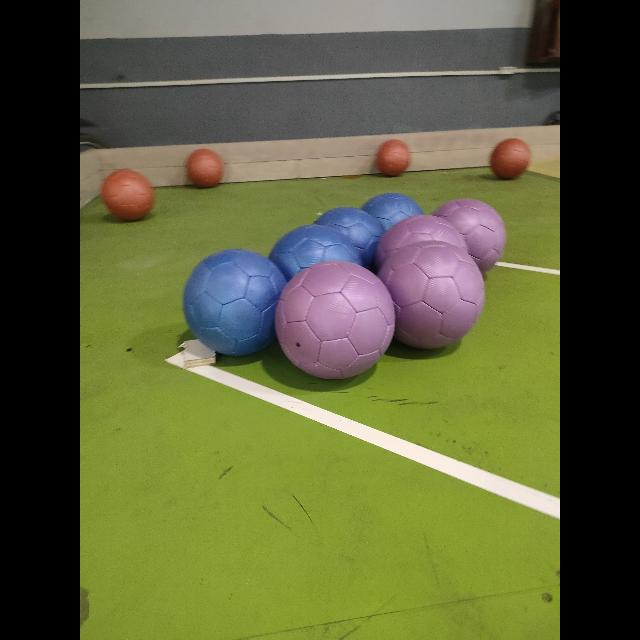B: (184, 249, 286, 355), (272, 226, 362, 302), (314, 207, 384, 270), (358, 190, 419, 248)
P: (274, 260, 396, 378), (382, 238, 482, 348), (376, 217, 472, 291), (432, 198, 506, 272)
R: (102, 170, 154, 220), (491, 138, 531, 178), (186, 149, 224, 187), (376, 140, 410, 176)
